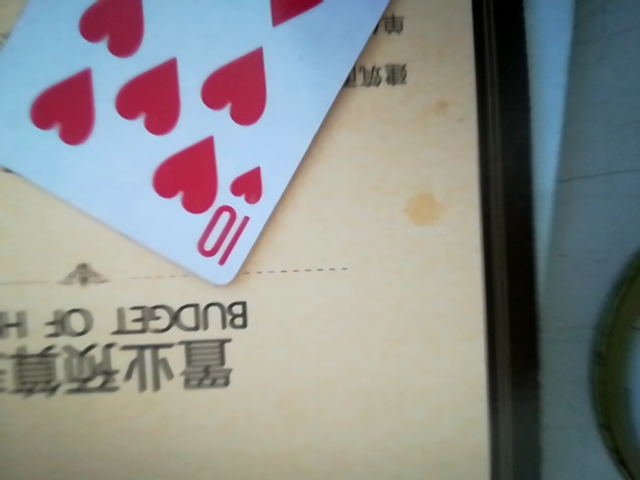hx 10: (1, 0, 426, 290)
